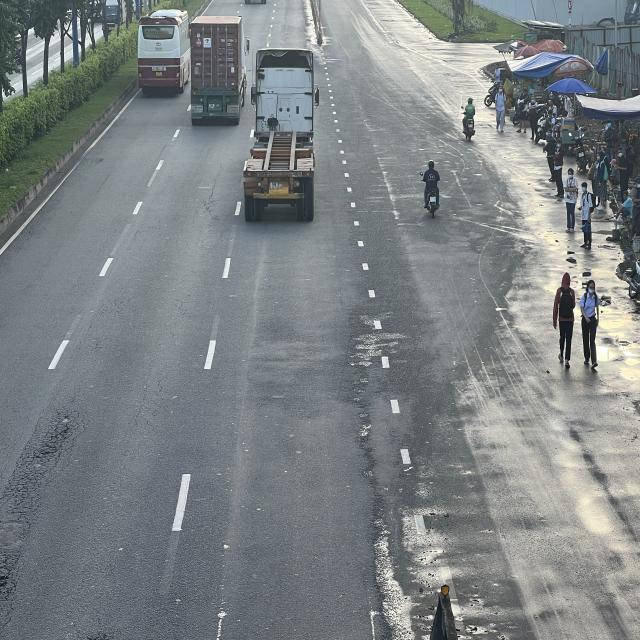coach: (137, 8, 190, 92)
container: (242, 48, 319, 221), (188, 18, 249, 128)
